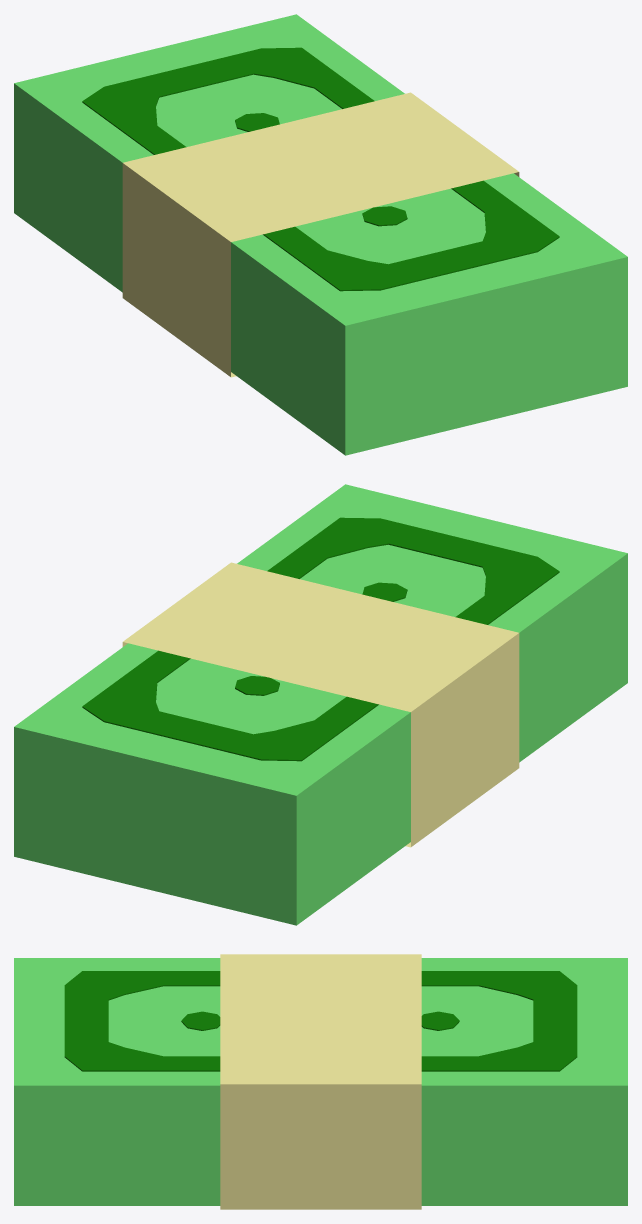
File: char_013_item_money_ballot_pack_01_FBX.fbx
The picture shows the model from 3 angles, top to bottom: view 1: azimuth 30°, elevation 25°; view 2: azimuth 150°, elevation 25°; view 3: azimuth 270°, elevation 25°; orthographic projection. The views are drawn at different scales.
Parts seen in each view (by area): view 1: money_ballot_pack, money_ballot_paper; view 2: money_ballot_pack, money_ballot_paper; view 3: money_ballot_pack, money_ballot_paper.
Part boxes in pixels (x1,y1,x2,y2): money_ballot_pack: [14, 14, 627, 455]; money_ballot_paper: [122, 92, 519, 377]; money_ballot_pack: [14, 484, 627, 925]; money_ballot_paper: [122, 562, 519, 847]; money_ballot_pack: [14, 958, 627, 1205]; money_ballot_paper: [220, 954, 421, 1209].
Bounding box in the file's own units: 0.3781 × 0.1695 × 0.7529.
1 material, 1 textured.
